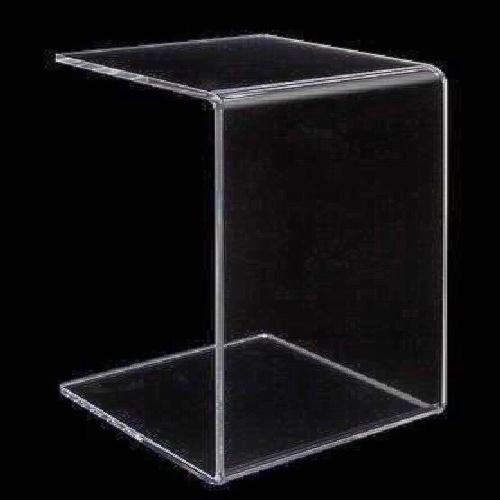table: (59, 36, 461, 470)
